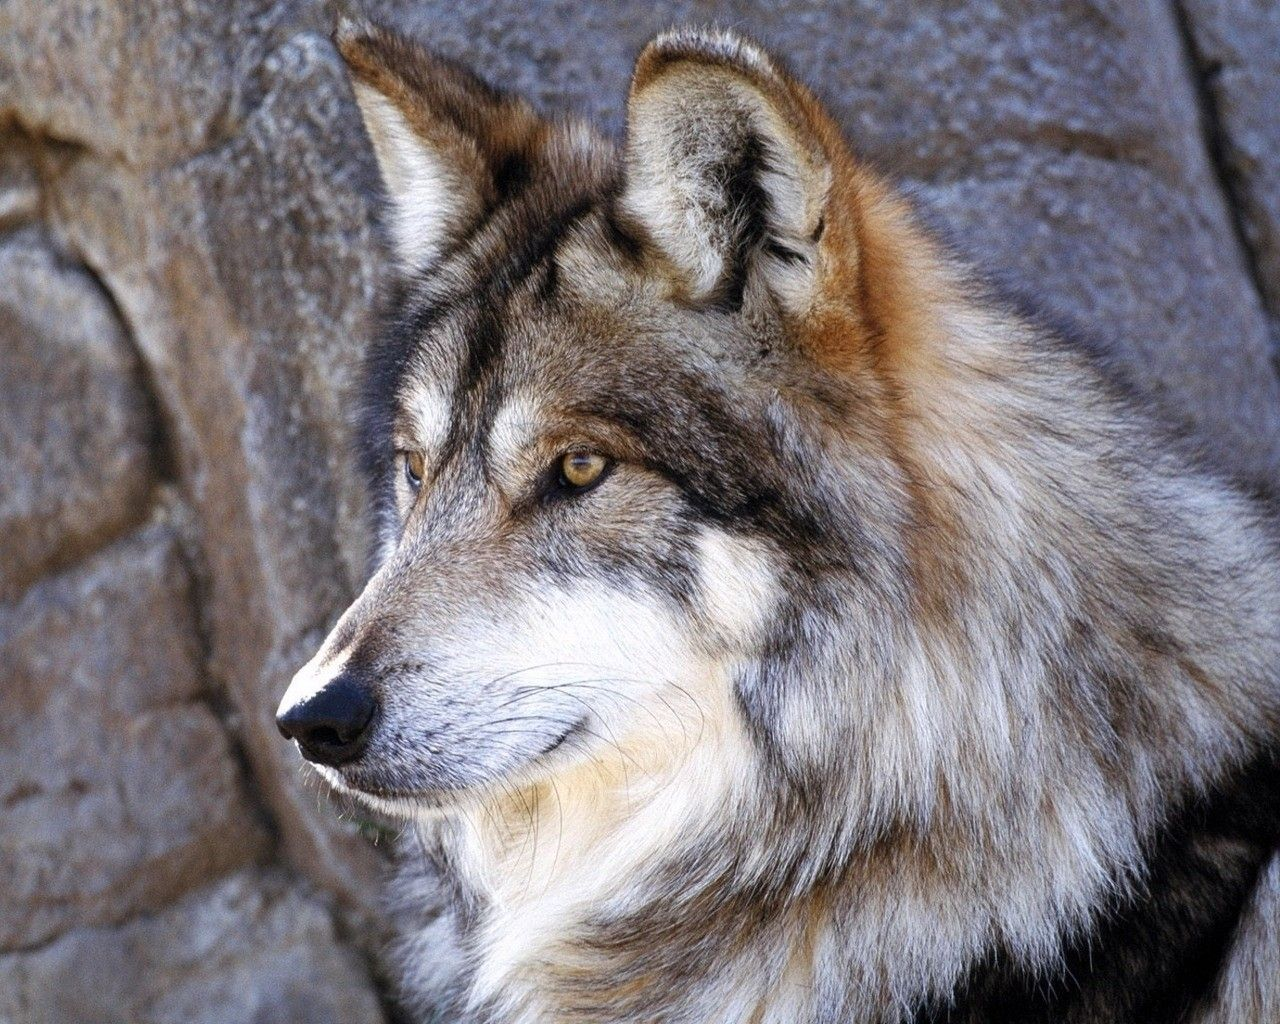Lobo: (227, 1, 1116, 973)
